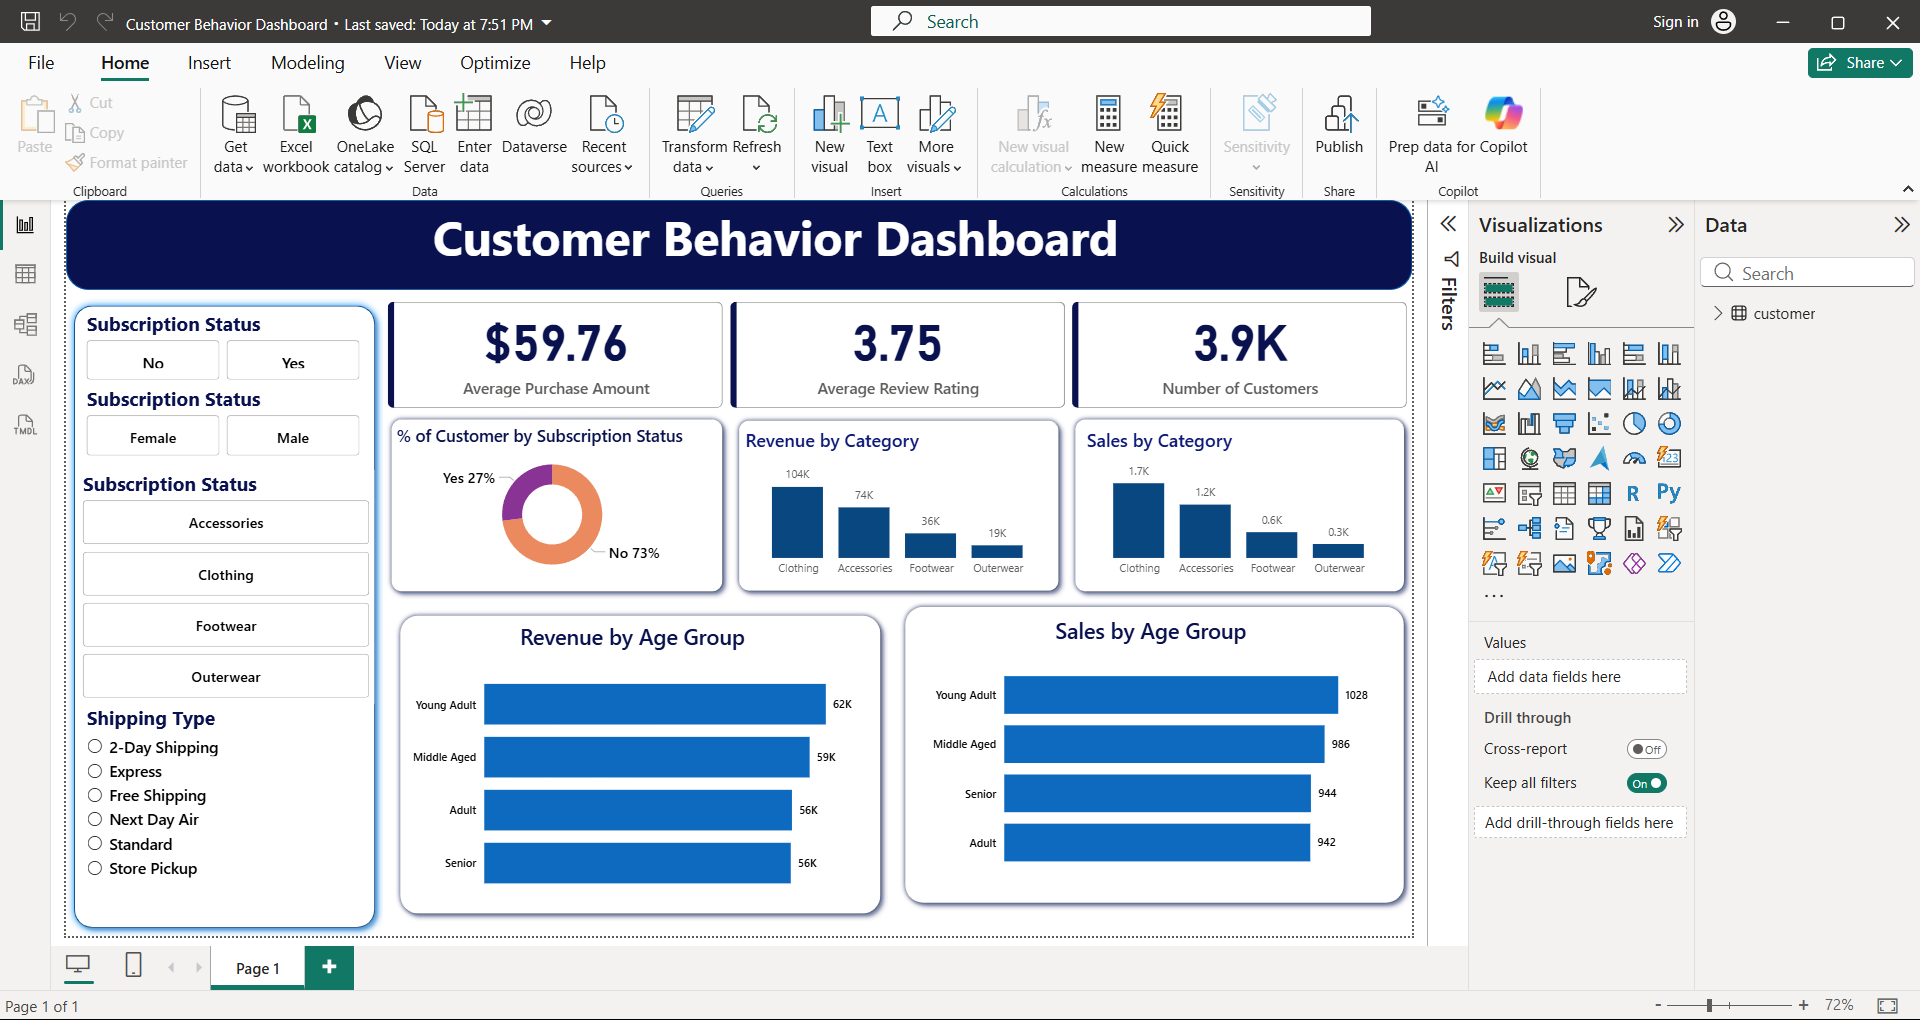

The dashboard page shown, as its layout file describes it:
{"tool":"powerbi","page":{"name":"Page 1","canvas":[1500,820],"ordinal":0},"visuals":[{"type":"cardVisual","fields":{"Data":["customer.Average Purchase Amount","customer.Average Review Rating","customer.Number of Customers"]},"box":[353.3,108.3,1146.7,128.8],"z":0},{"type":"shape","box":[0,0,1500,100.3],"z":1000},{"type":"textbox","box":[274.7,0,1032.7,100.3],"z":2000},{"type":"shape","box":[353.3,234.8,386.4,209.7],"z":3000},{"type":"donutChart","title":"% of Customer by Subscription Status","fields":{"Category":["customer.subscription_status"],"Y":["CountNonNull(customer.customer_id)"]},"box":[363.6,249.6,356.8,177.8],"z":4000},{"type":"shape","box":[740.9,237.1,373.9,207.4],"z":5000},{"type":"shape","box":[1115.9,234.8,384.1,209.7],"z":6000},{"type":"clusteredColumnChart","title":"Revenue by Category","fields":{"Y":["Sum(customer.purchase_amount)"],"Category":["customer.category"]},"box":[752.3,253,351.1,175.5],"z":7000},{"type":"clusteredColumnChart","title":"Sales by Category","fields":{"Y":["CountNonNull(customer.customer_id)"],"Category":["customer.category"]},"box":[1131.8,253,351.1,175.5],"z":8000},{"type":"shape","box":[0,108.3,353.3,711.2],"z":9000},{"type":"advancedSlicerVisual","title":"Subscription Status","fields":{"Values":["customer.subscription_status"]},"box":[18.2,123.1,315.7,83.2],"z":10000},{"type":"advancedSlicerVisual","title":"Subscription Status","fields":{"Values":["customer.gender"]},"box":[18.2,206.3,315.7,84.3],"z":11000},{"type":"advancedSlicerVisual","title":"Subscription Status","fields":{"Values":["customer.category"]},"box":[13.7,300.9,329.4,261],"z":12000},{"type":"listSlicer","title":"Shipping Type","fields":{"Values":["customer.shipping_type"]},"box":[18.2,561.9,324.8,257.6],"z":13000},{"type":"shape","box":[363.6,453.6,552.8,349.9],"z":14000},{"type":"clusteredBarChart","title":"Revenue by Age Group","fields":{"Y":["Sum(customer.purchase_amount)"],"Category":["customer.age_group"]},"box":[380.7,470.7,501.5,321.4],"z":15000},{"type":"shape","box":[926.7,444.5,573.3,347.6],"z":15001},{"type":"clusteredBarChart","title":"Sales by Age Group","fields":{"Category":["customer.age_group"],"Y":["CountNonNull(customer.customer_id)"]},"box":[959.7,463.9,498.1,302.1],"z":15002}]}

Visuals, with their boxes on the page's 1500x820 design canvas (x1, y1, x2, y2). These are canvas units, not pixel positions in the 1920x1020 screenshot, which may show the page scaled, cropped or inside an application window:
cardVisual - customer.Average Purchase Amount x customer.Average Review Rating: (353,108,1500,237)
shape: (0,0,1500,100)
textbox: (275,0,1307,100)
shape: (353,235,740,444)
"% of Customer by Subscription Status" donutChart: (364,250,720,427)
shape: (741,237,1115,444)
shape: (1116,235,1500,444)
"Revenue by Category" clusteredColumnChart: (752,253,1103,428)
"Sales by Category" clusteredColumnChart: (1132,253,1483,428)
shape: (0,108,353,820)
"Subscription Status" advancedSlicerVisual: (18,123,334,206)
"Subscription Status" advancedSlicerVisual: (18,206,334,291)
"Subscription Status" advancedSlicerVisual: (14,301,343,562)
"Shipping Type" listSlicer: (18,562,343,820)
shape: (364,454,916,804)
"Revenue by Age Group" clusteredBarChart: (381,471,882,792)
shape: (927,444,1500,792)
"Sales by Age Group" clusteredBarChart: (960,464,1458,766)
